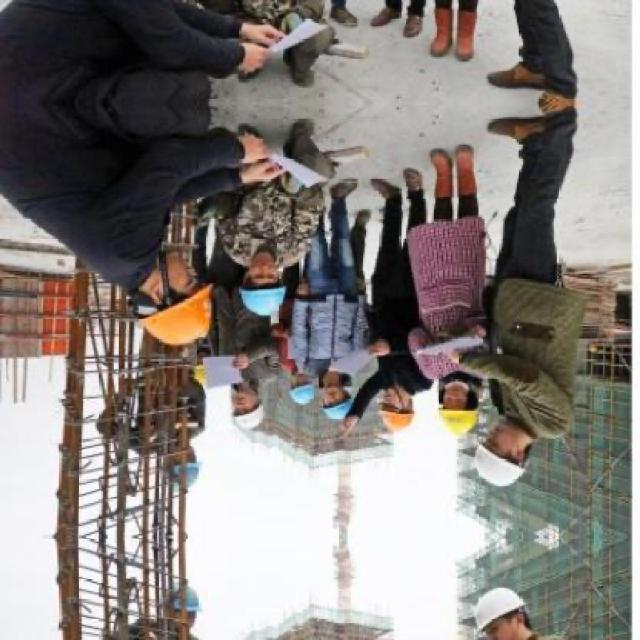con casco: (69, 226, 220, 349), (140, 418, 224, 528), (469, 408, 549, 499), (230, 239, 308, 328), (348, 369, 420, 449), (420, 382, 501, 445), (200, 356, 259, 424), (316, 385, 364, 432)
